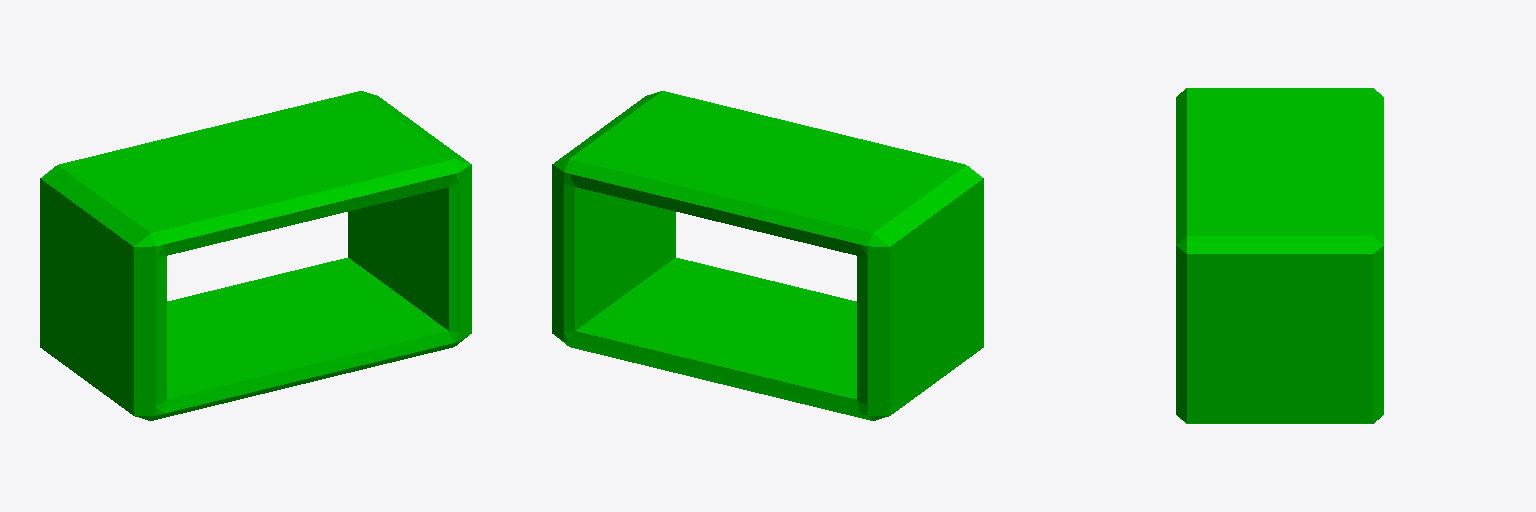
Rendered from block_selector.obj.
The picture shows the model from 3 angles: view 1: azimuth 30°, elevation 25°; view 2: azimuth 150°, elevation 25°; view 3: azimuth 270°, elevation 25°; orthographic projection.
Parts seen in each view (by area): view 1: selector_Cube.002; view 2: selector_Cube.002; view 3: selector_Cube.002.
Boxes of the visible parts, <box> form: selector_Cube.002: <box>40,91,471,420</box>; selector_Cube.002: <box>552,91,983,420</box>; selector_Cube.002: <box>1176,88,1383,423</box>.
Size of the model in its own units: 4.7 by 2.5 by 2.5.